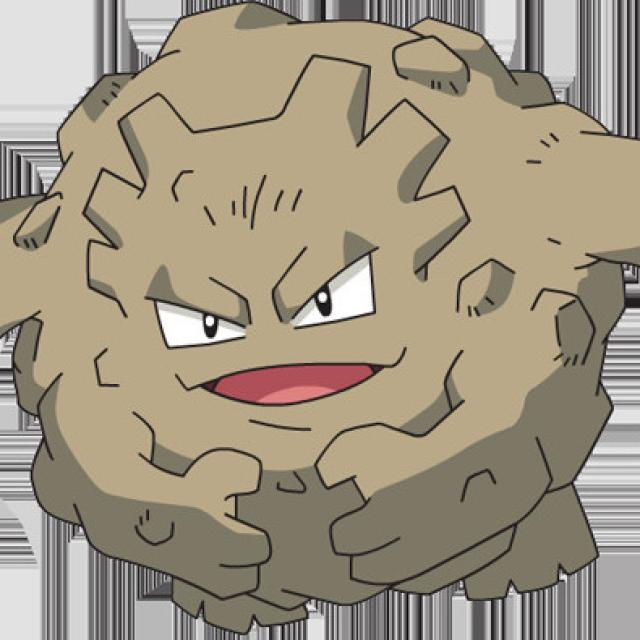Graveler: (27, 0, 634, 618)
